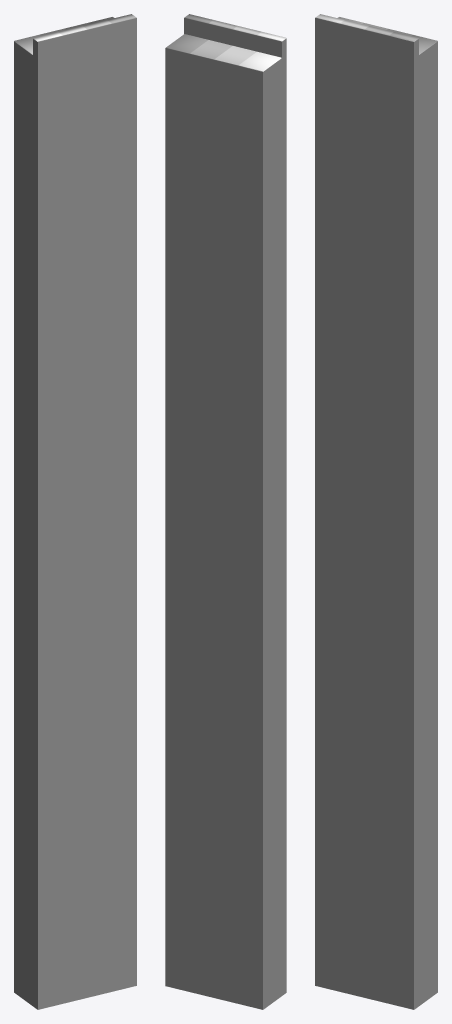
The model's file is road_small_forjump_end.FBX.
3 views of the same model, side by side, from view 1: azimuth 30°, elevation 25°; view 2: azimuth 150°, elevation 25°; view 3: azimuth 330°, elevation 25° (orthographic).
Parts seen in each view (by area): view 1: road_small_forjump_end; view 2: road_small_forjump_end; view 3: road_small_forjump_end.
Boxes of the visible parts, bbox=[...] form: road_small_forjump_end: bbox=[14, 14, 136, 1009]; road_small_forjump_end: bbox=[165, 14, 286, 1009]; road_small_forjump_end: bbox=[315, 14, 437, 1009].
Bounding box in the file's own units: 12 × 112 × 5.
1 material, 1 textured.
